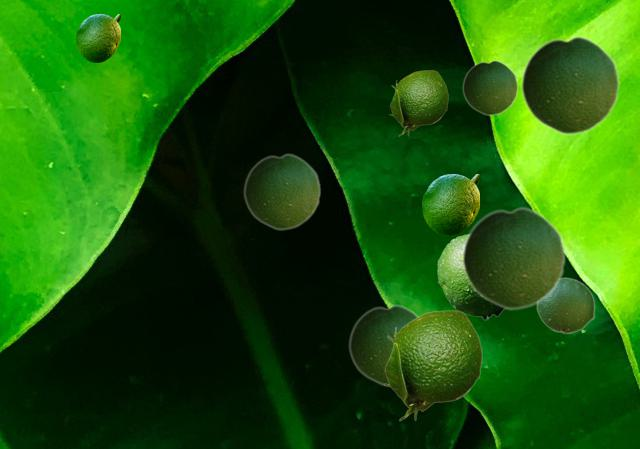dalandan: (461, 205, 565, 310), (383, 310, 481, 420), (520, 35, 619, 135), (243, 152, 320, 230), (348, 303, 418, 386), (437, 234, 503, 319), (389, 70, 447, 135), (422, 174, 478, 234), (536, 277, 594, 333), (462, 59, 517, 115), (76, 14, 119, 61)
